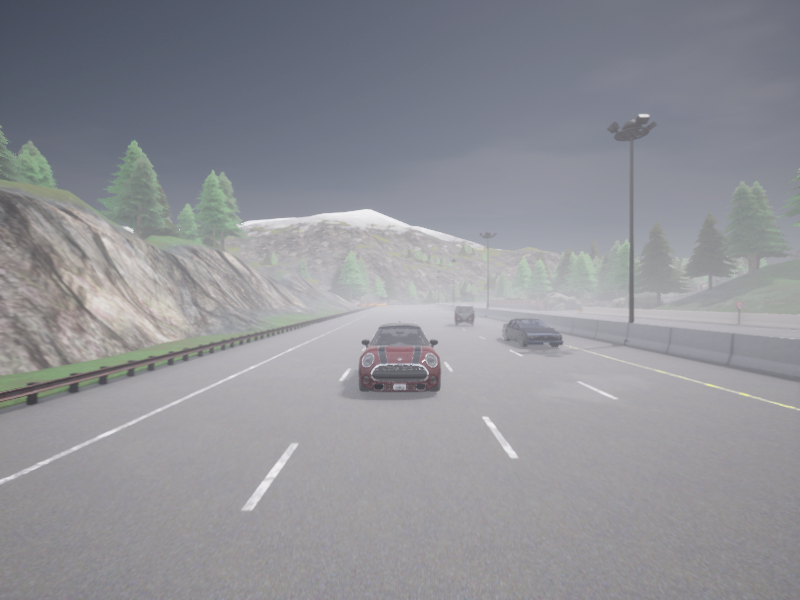vehicle: (359, 321, 440, 391), (502, 318, 563, 347), (454, 305, 474, 326)
